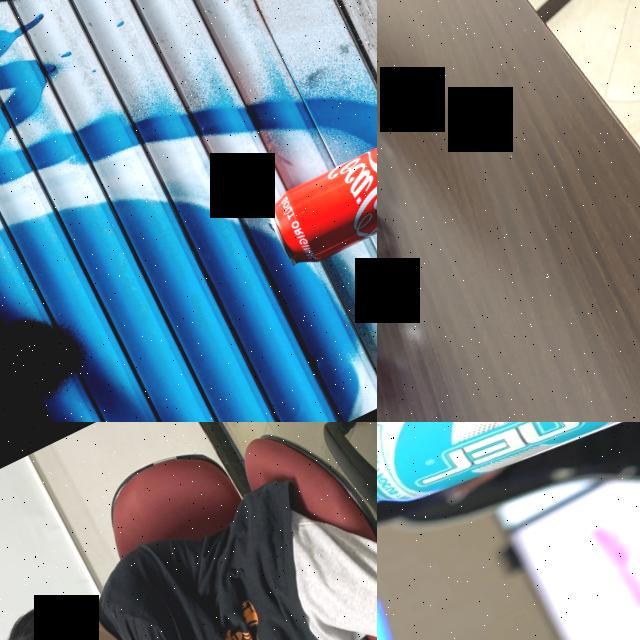bottle: (377, 34, 449, 386)
can: (377, 422, 640, 564), (261, 119, 377, 272)
